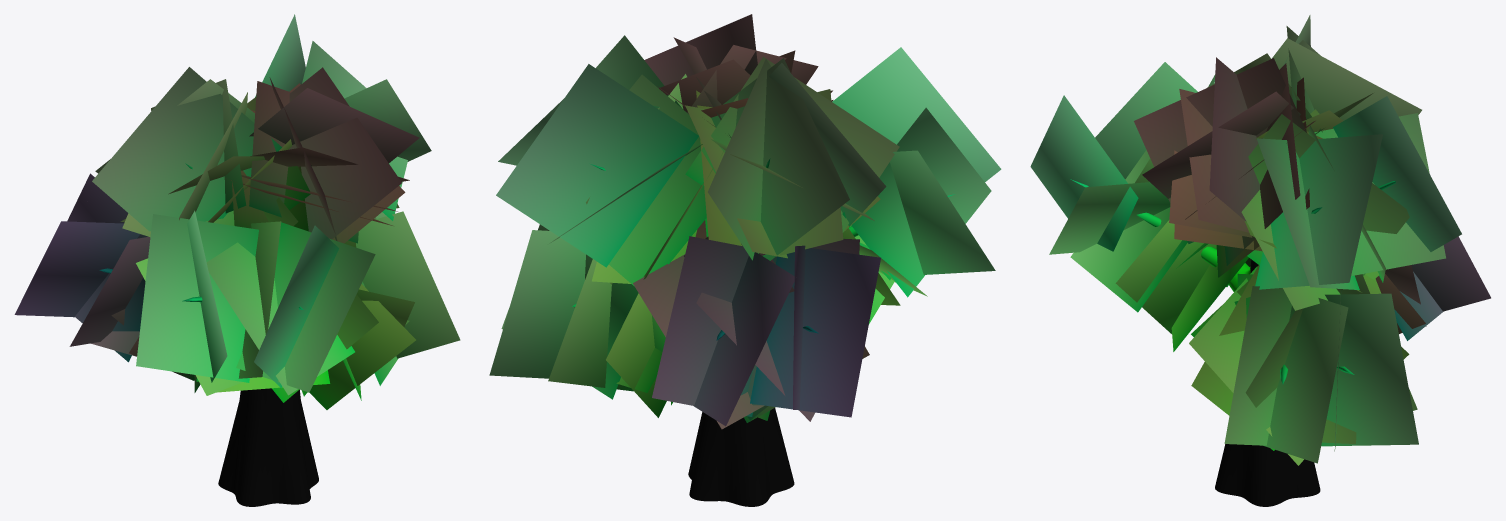
File: M_Arbol.fbx
3 renders of one model, left to right at view 1: azimuth 30°, elevation 25°; view 2: azimuth 150°, elevation 25°; view 3: azimuth 270°, elevation 25°, orthographic. The views are drawn at different scales.
Visible parts, largest first — view 1: Tree_1, Tree_0; view 2: Tree_1, Tree_0; view 3: Tree_1, Tree_0.
Part boxes in pixels (x1,y1,x2,y2): Tree_1: (14,14,460,409); Tree_0: (99,163,318,506); Tree_1: (489,14,1001,429); Tree_0: (572,158,954,506); Tree_1: (1030,15,1490,465); Tree_0: (1070,179,1395,506).
Size of the model in its own units: 448 by 481 by 458.
